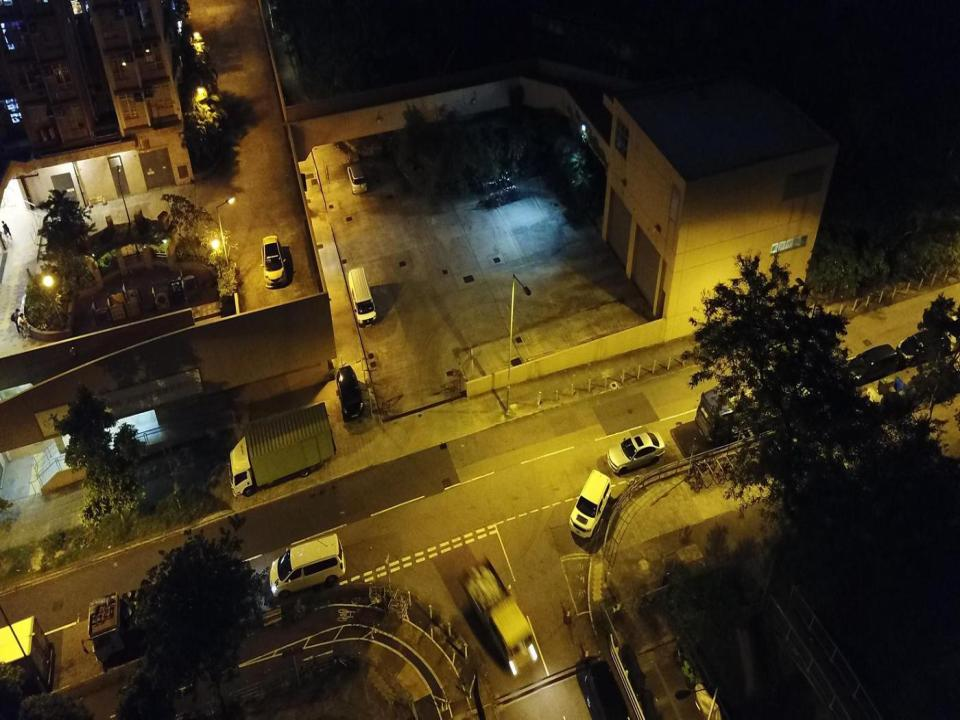car: (582, 659, 634, 719), (568, 469, 612, 538), (606, 430, 666, 475), (896, 327, 951, 367), (335, 365, 365, 422), (260, 235, 287, 288)
truck: (80, 567, 239, 666), (228, 401, 335, 498), (457, 554, 538, 676), (694, 365, 810, 444)
van: (268, 532, 346, 598), (847, 342, 899, 386), (348, 267, 377, 328), (471, 176, 523, 204), (347, 162, 368, 194)
